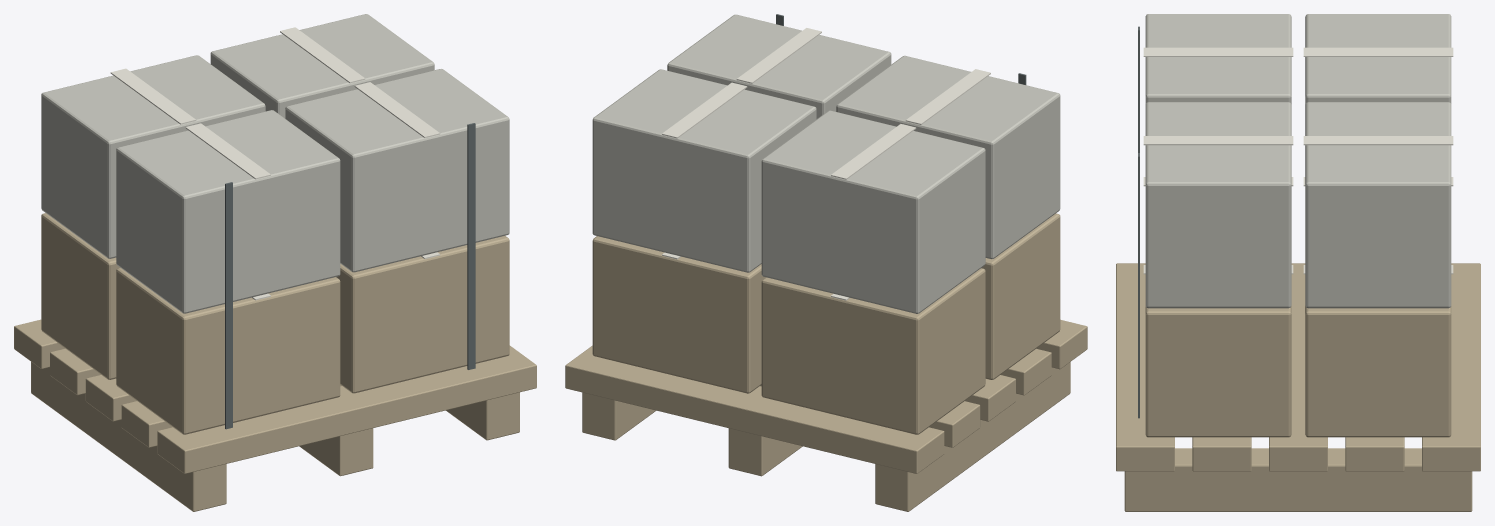
The model's file is F1_CrateLoad_A.fbx.
3 renders of one model, left to right at view 1: azimuth 30°, elevation 25°; view 2: azimuth 150°, elevation 25°; view 3: azimuth 270°, elevation 25°, orthographic. The views are drawn at different scales.
Visible parts, largest first — view 1: F1_CrateLoad_A_LOD0; view 2: F1_CrateLoad_A_LOD0; view 3: F1_CrateLoad_A_LOD0.
Part boxes in pixels (box(x1,y1,x2,y2)): F1_CrateLoad_A_LOD0: box(14, 14, 536, 511); F1_CrateLoad_A_LOD0: box(565, 14, 1087, 511); F1_CrateLoad_A_LOD0: box(1116, 14, 1480, 511).
Size of what is drawn, in the model's own units: 125 by 107 by 105.
